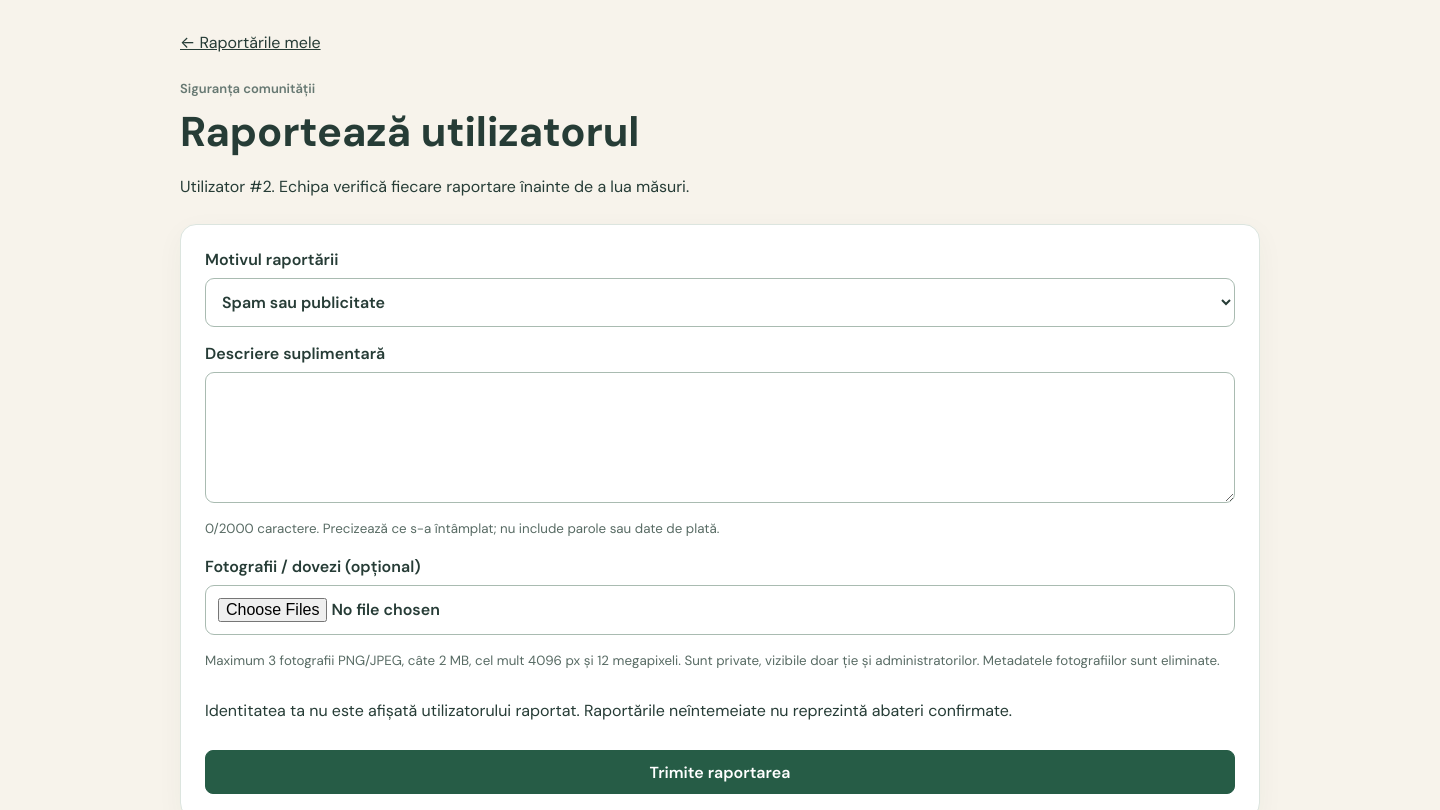
content reporting › keeps the draft when submission fails and validates Other
Step 1. Select "Alt motiv" in the dropdown labelled "Motivul raportării" → (720, 303), box [205,278,1235,327]
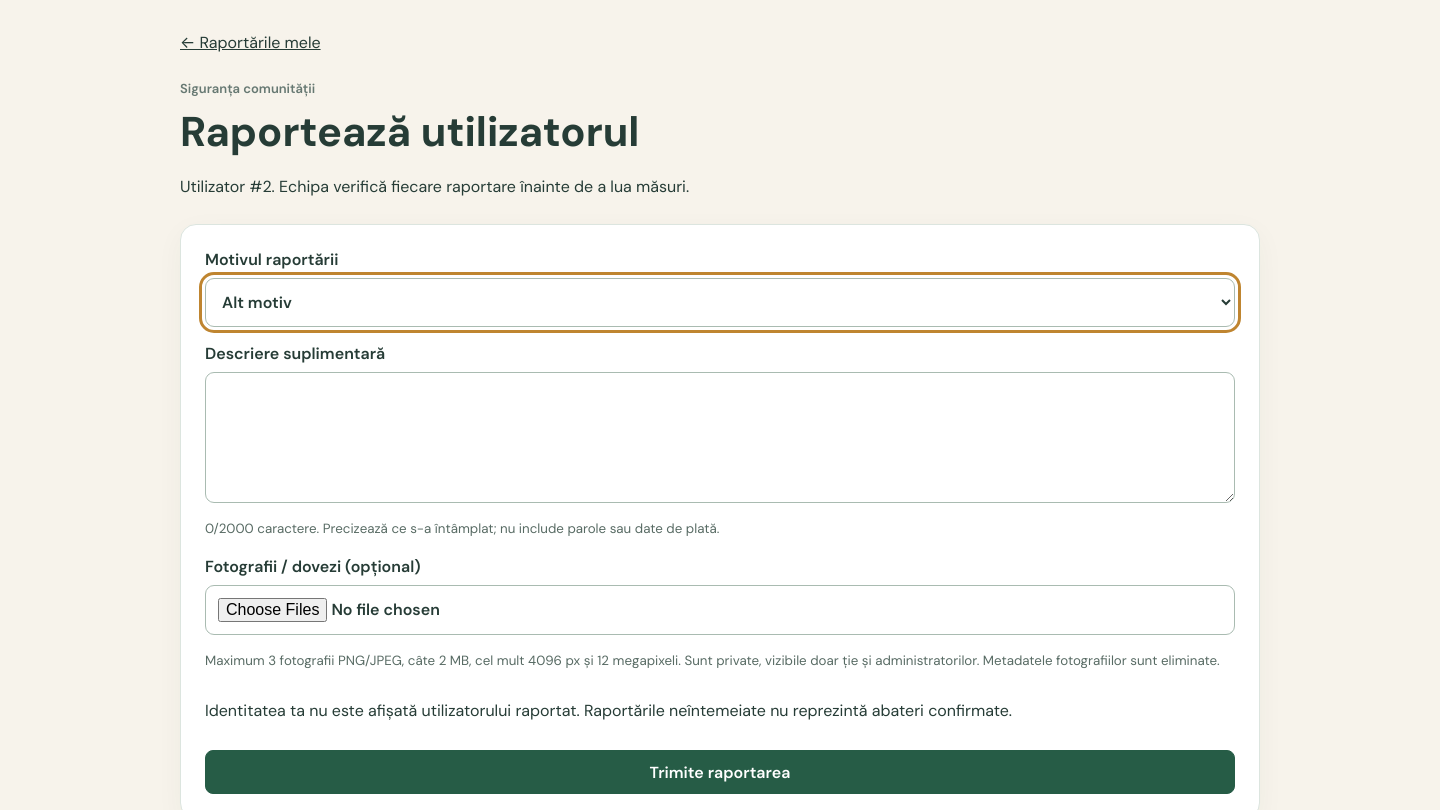
Step 2. Type "scurt" into the text box labelled "Descriere suplimentară" → (720, 438), box [205,372,1235,503]
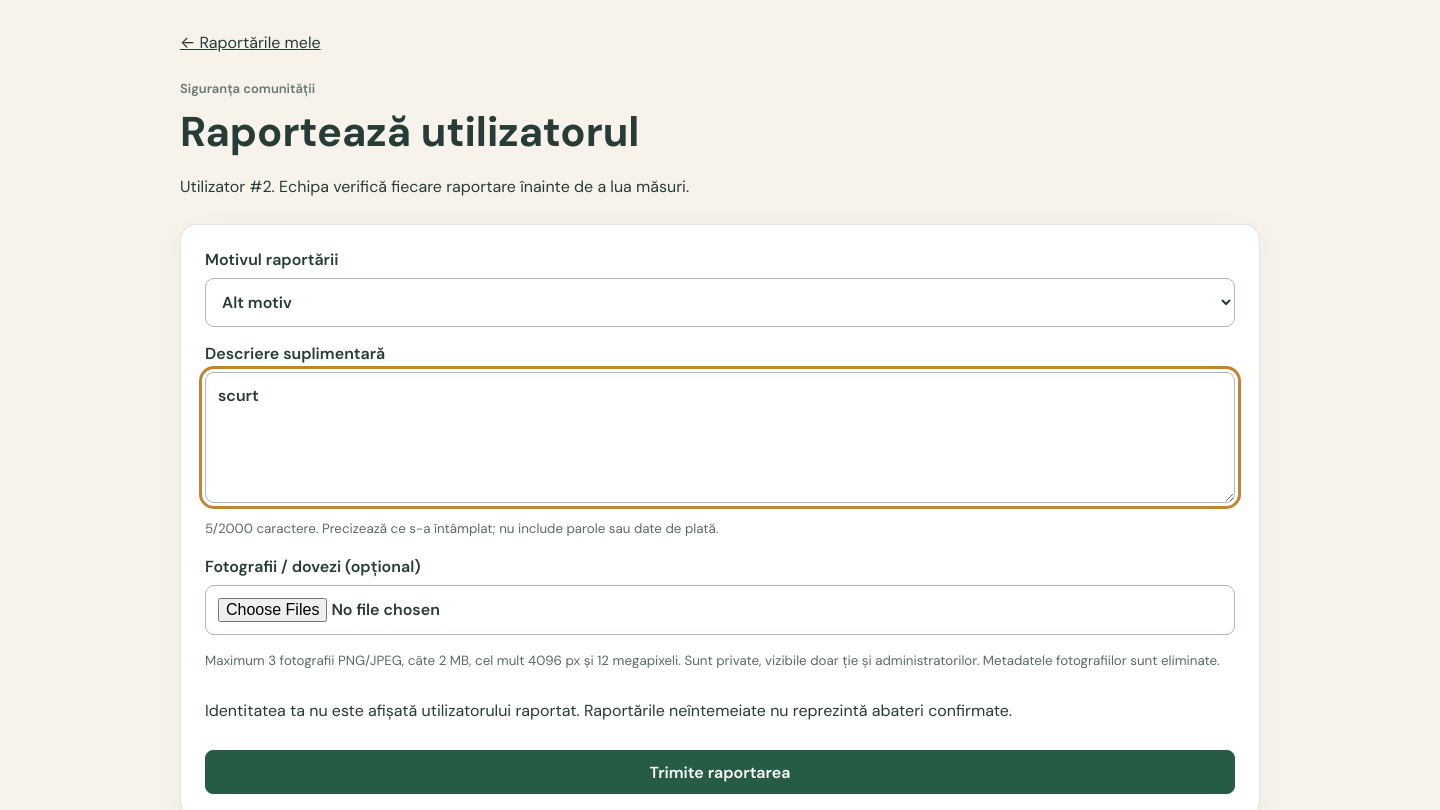
Step 3. Click the button "Trimite raportarea" → (720, 772), box [205,750,1235,794]
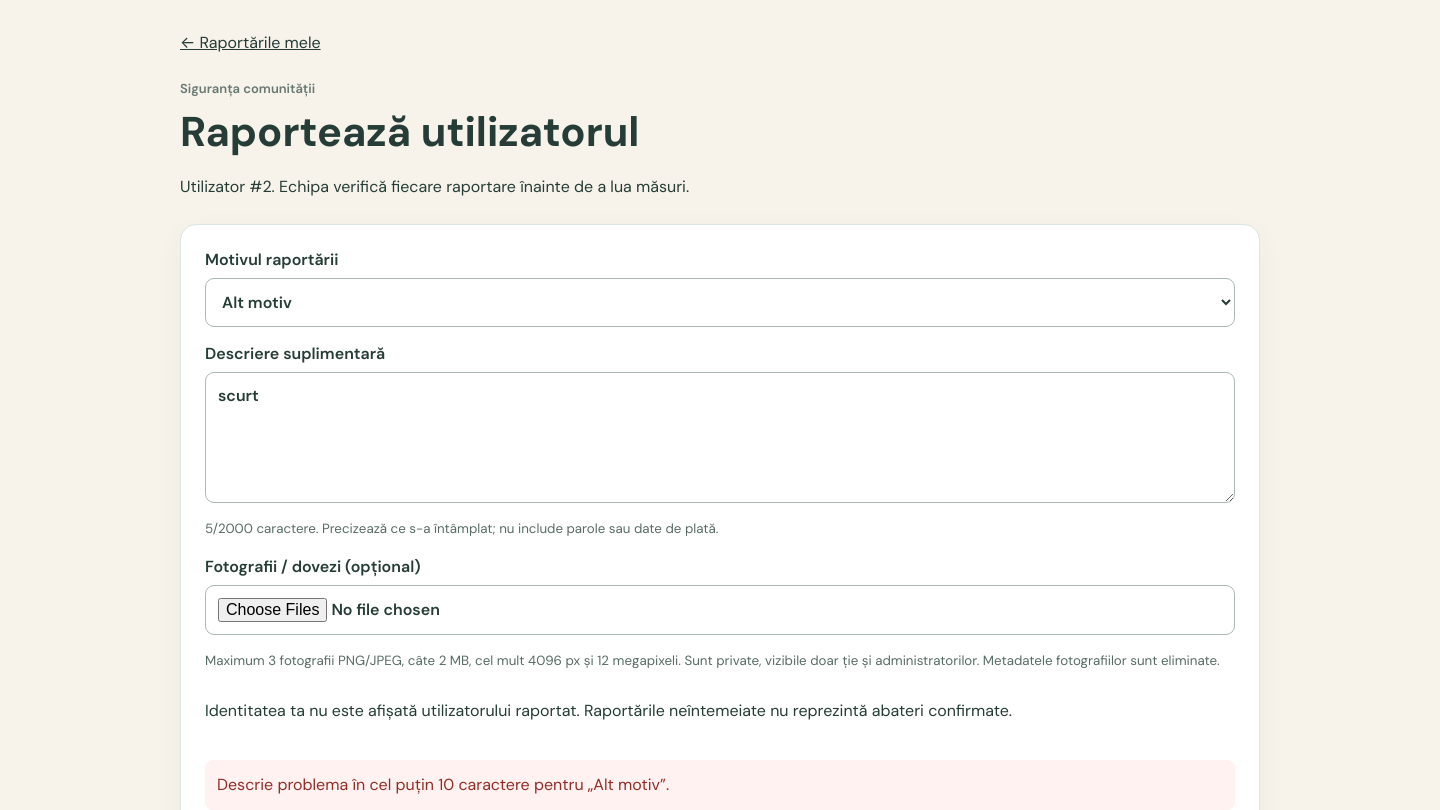
Result: the message shows "cel puțin 10" at [217,774,669,795]
Step 4. Type " dar acum suficient de lung" into the text box labelled "Descriere suplimentară" → (720, 438), box [205,372,1235,503]
(page scrolled)
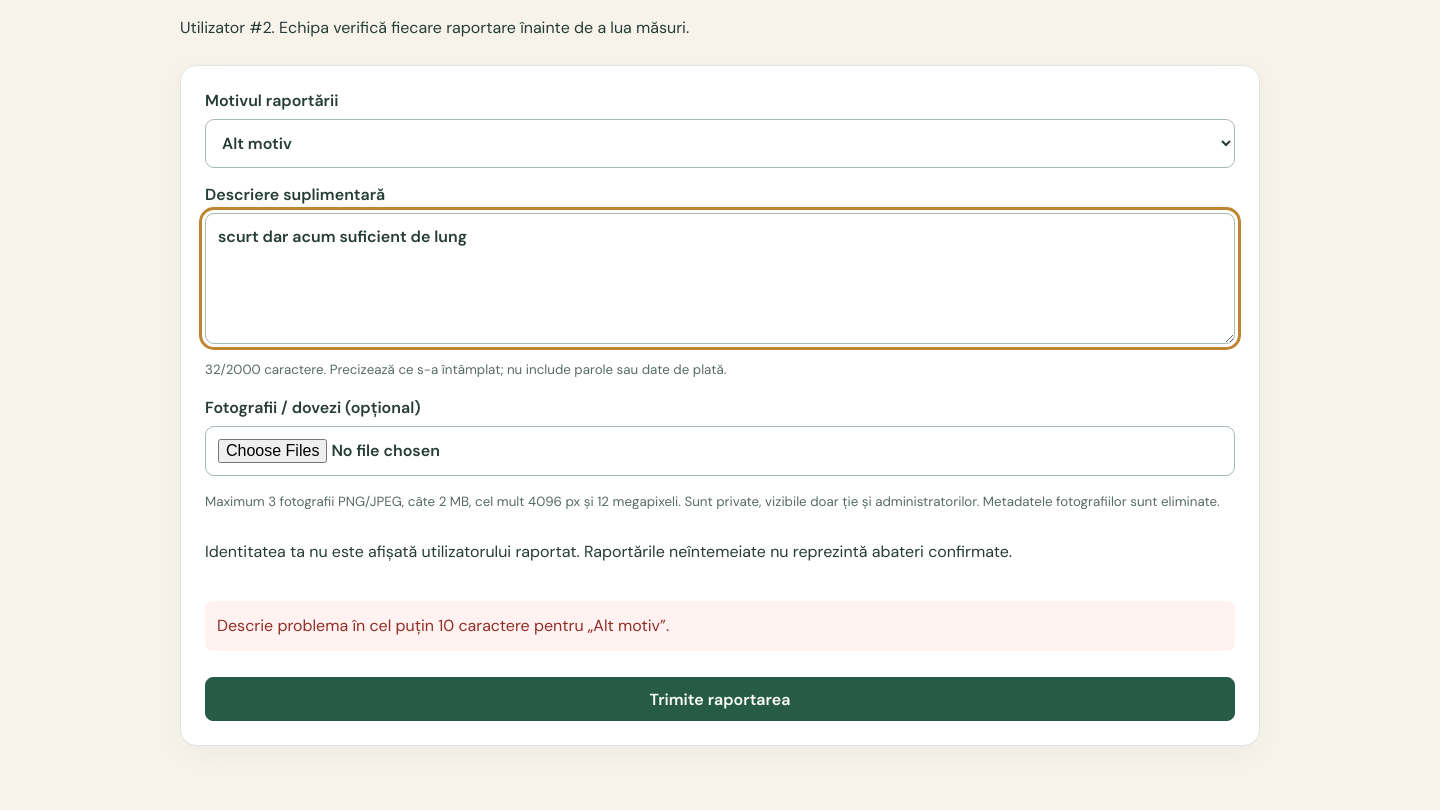
Step 5. Click the button "Trimite raportarea" → (720, 699), box [205,677,1235,721]
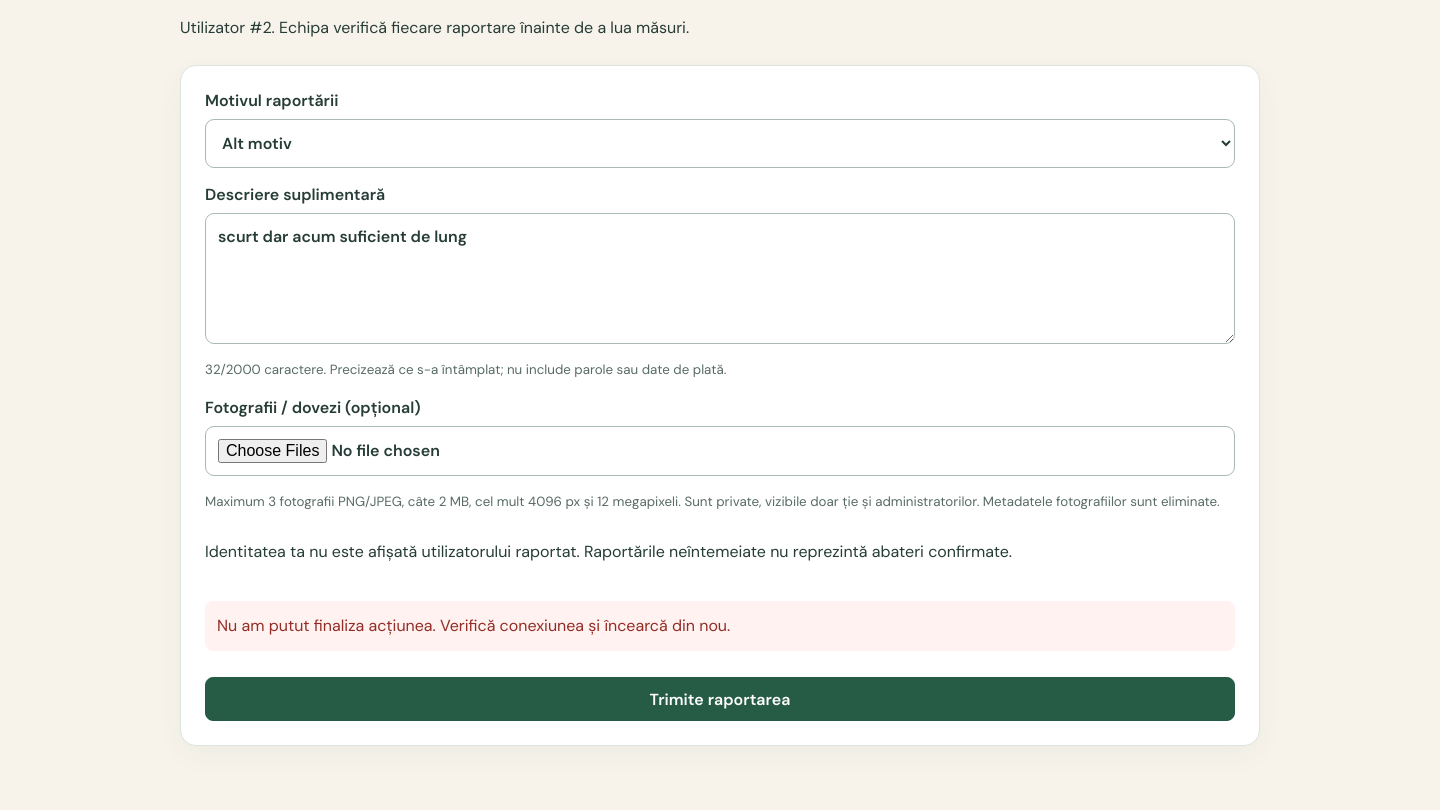
Result: the text box labelled "Descriere suplimentară" holds "scurt dar acum suficient de lung" at [205,213,1235,344]
Result: the message shows "conexiunea" at [217,615,730,636]
